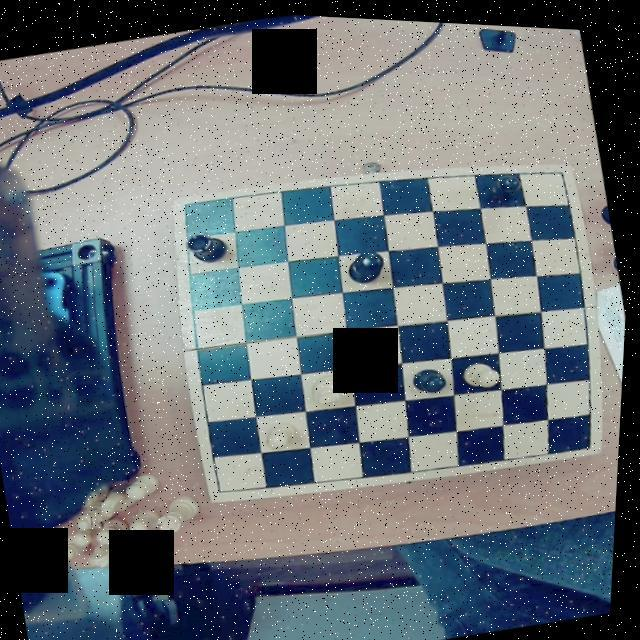chess-table-corners: (174, 192, 205, 220), (210, 473, 238, 500), (574, 429, 606, 452), (550, 158, 576, 182)
